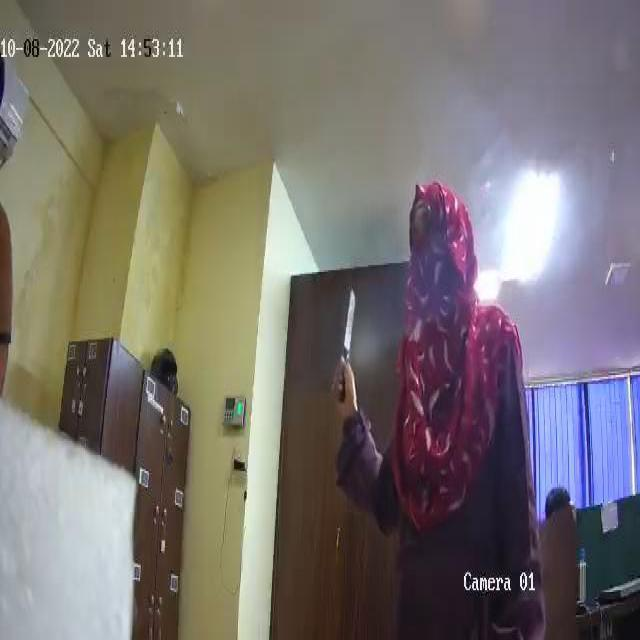faca: (335, 284, 363, 406)
